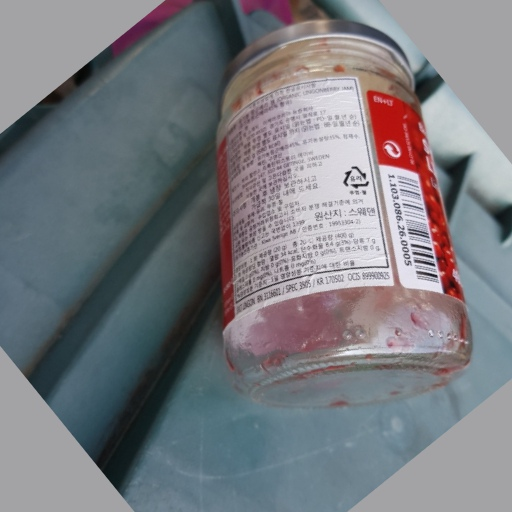Glass_5: (209, 12, 476, 400)
